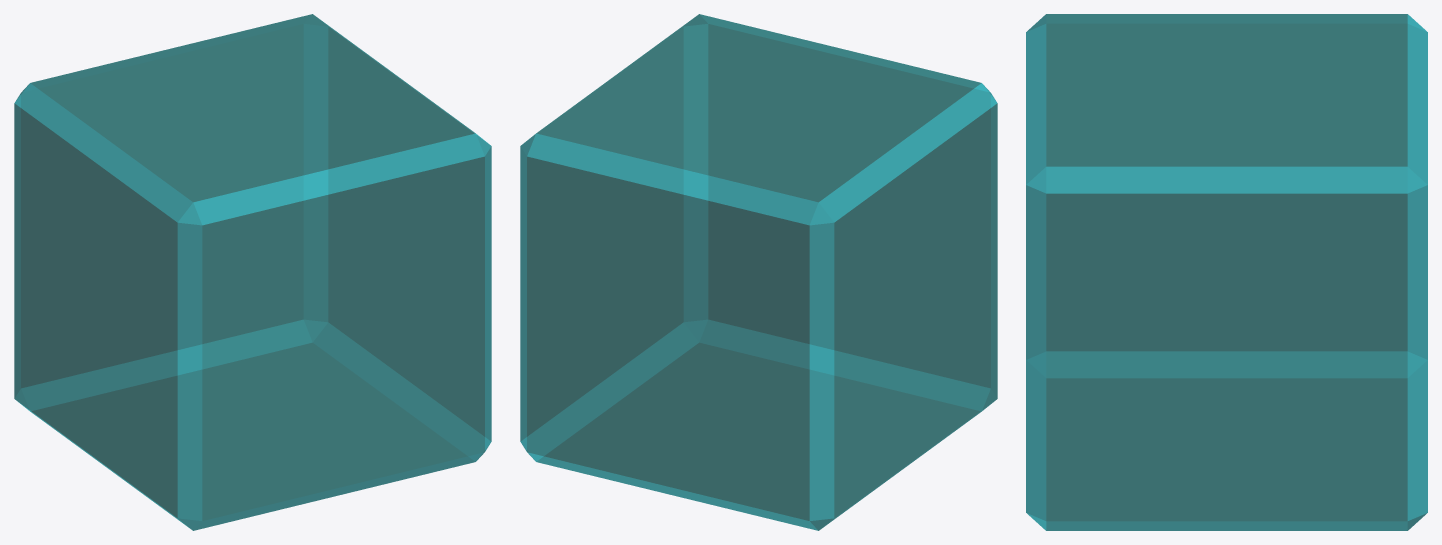
File: CUBE_ALPHA.glb
The picture shows the model from 3 angles, left to right: view 1: azimuth 30°, elevation 25°; view 2: azimuth 150°, elevation 25°; view 3: azimuth 270°, elevation 25°; orthographic projection. The views are drawn at different scales.
Visible parts, largest first — view 1: Cube; view 2: Cube; view 3: Cube.
Boxes of the visible parts, box(x1,y1,x2,y2) form: Cube: box(14, 14, 491, 530); Cube: box(520, 14, 997, 530); Cube: box(1026, 14, 1427, 530).
Size of the model in its own units: 2 by 2 by 2.
1 material, 1 textured.
